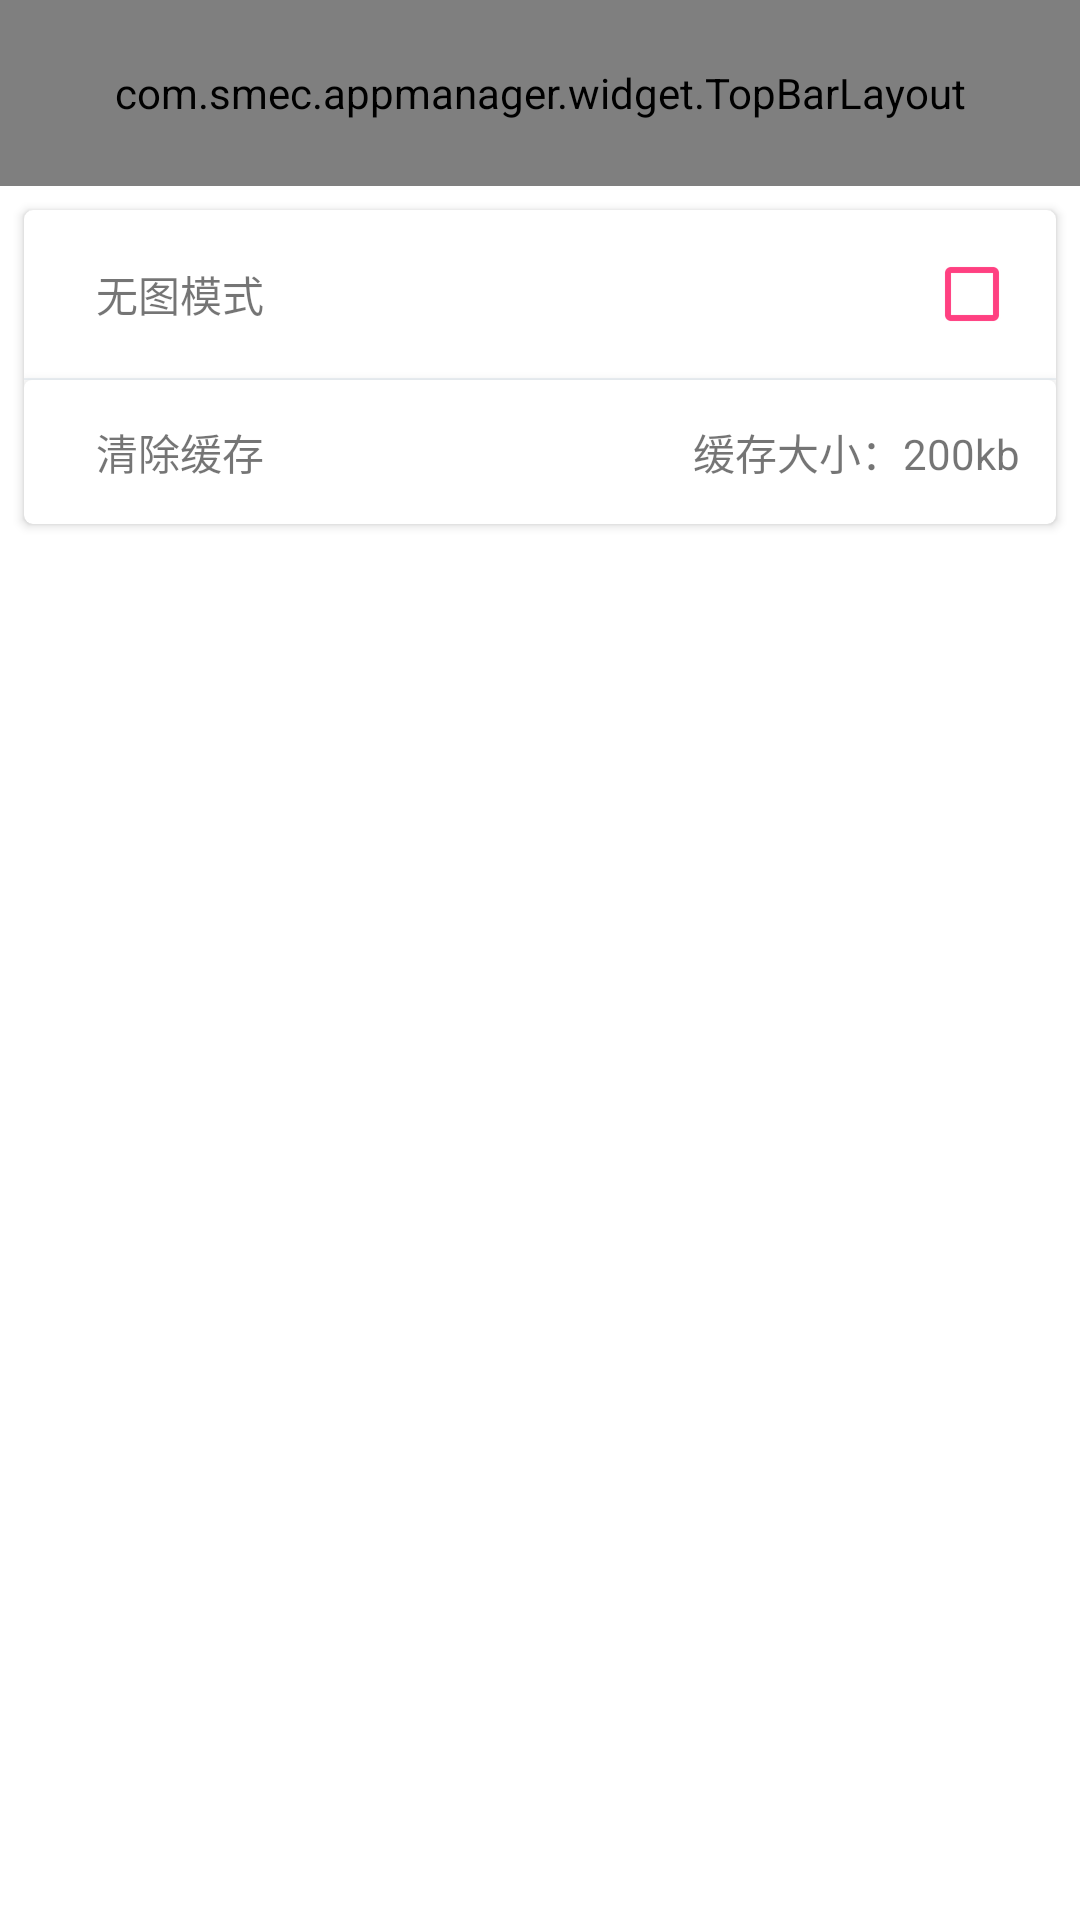

Locate icon controls on the screen. Image size 1080x1920, boxes as region(x1, y1, x2, y2).
check: region(945, 267, 999, 321)
